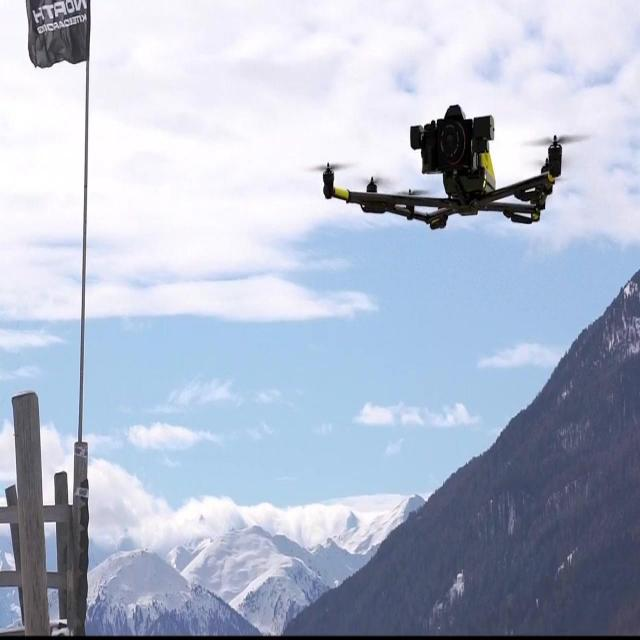UAV: (306, 81, 598, 224)
